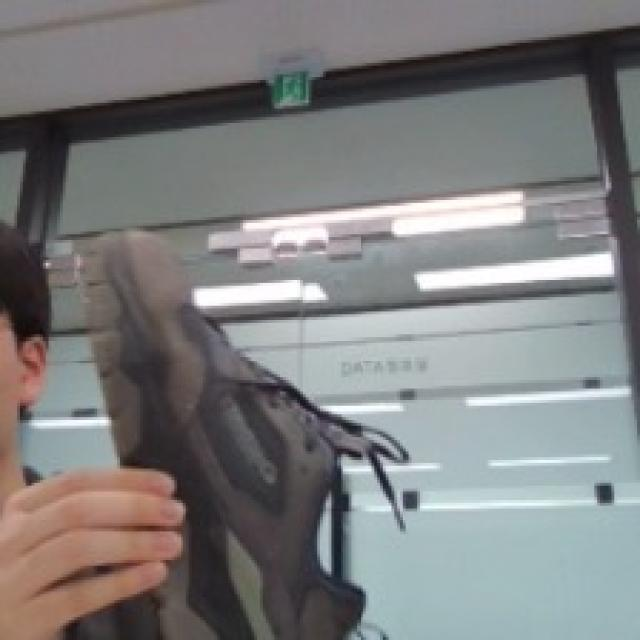shoe: (84, 227, 417, 640)
